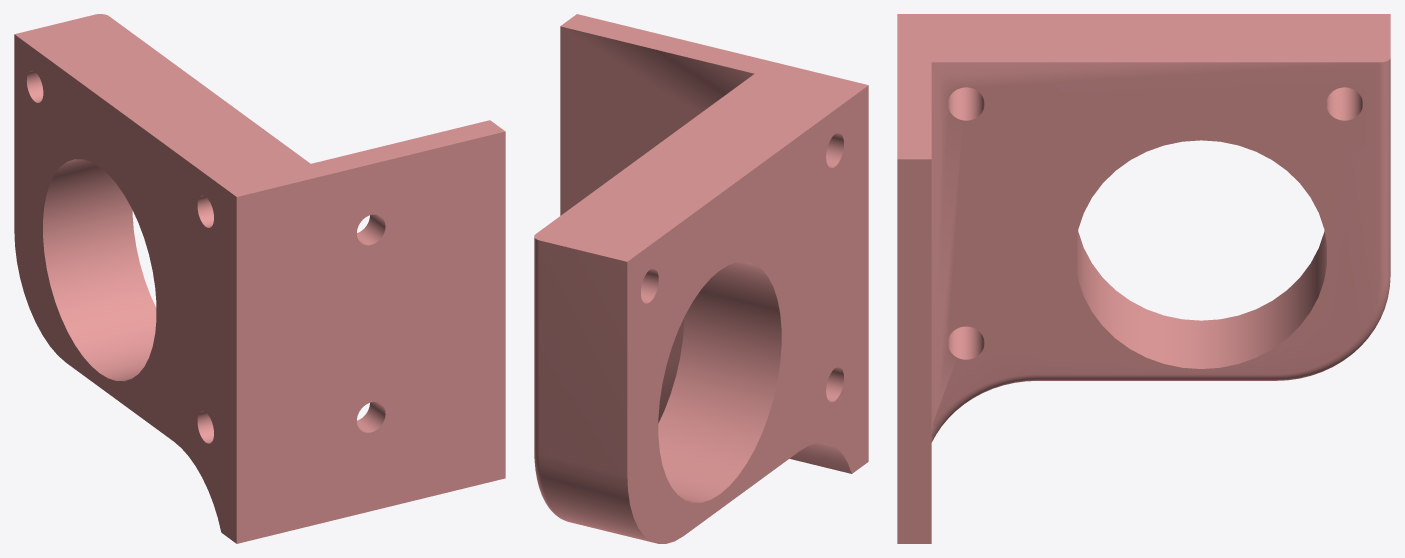
The model's file is uwchwytPrawyWal.obj.
3 renders of one model, left to right at view 1: azimuth 30°, elevation 25°; view 2: azimuth 150°, elevation 25°; view 3: azimuth 270°, elevation 25°, orthographic. The views are drawn at different scales.
Visible parts, largest first — view 1: uchwyt_prawy_wal; view 2: uchwyt_prawy_wal; view 3: uchwyt_prawy_wal.
Boxes of the visible parts, bbox=[...] form: uchwyt_prawy_wal: bbox=[14, 14, 505, 543]; uchwyt_prawy_wal: bbox=[534, 14, 868, 543]; uchwyt_prawy_wal: bbox=[897, 14, 1390, 543].
Size of the model in its own units: 30 by 37 by 43.
